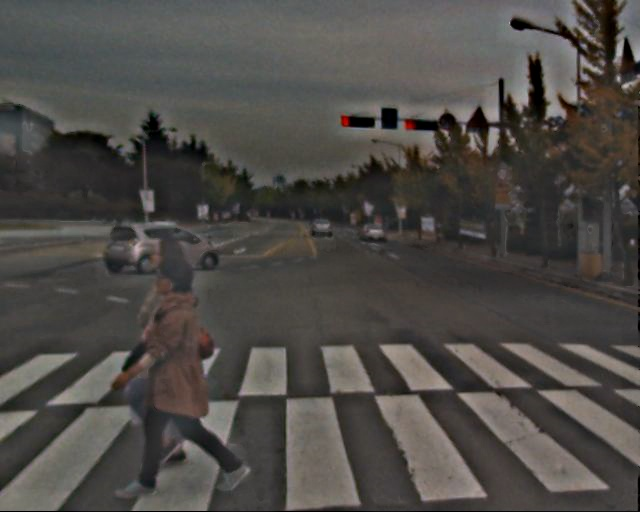person: (126, 238, 229, 461), (133, 258, 232, 487)
